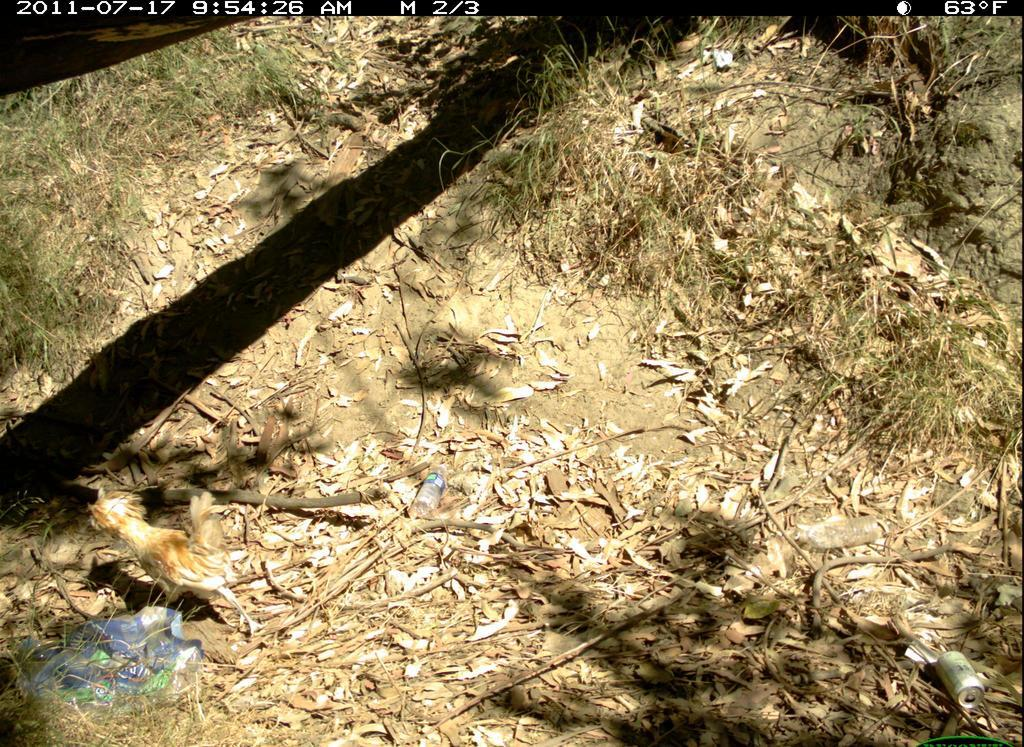bird: (76, 479, 303, 661)
